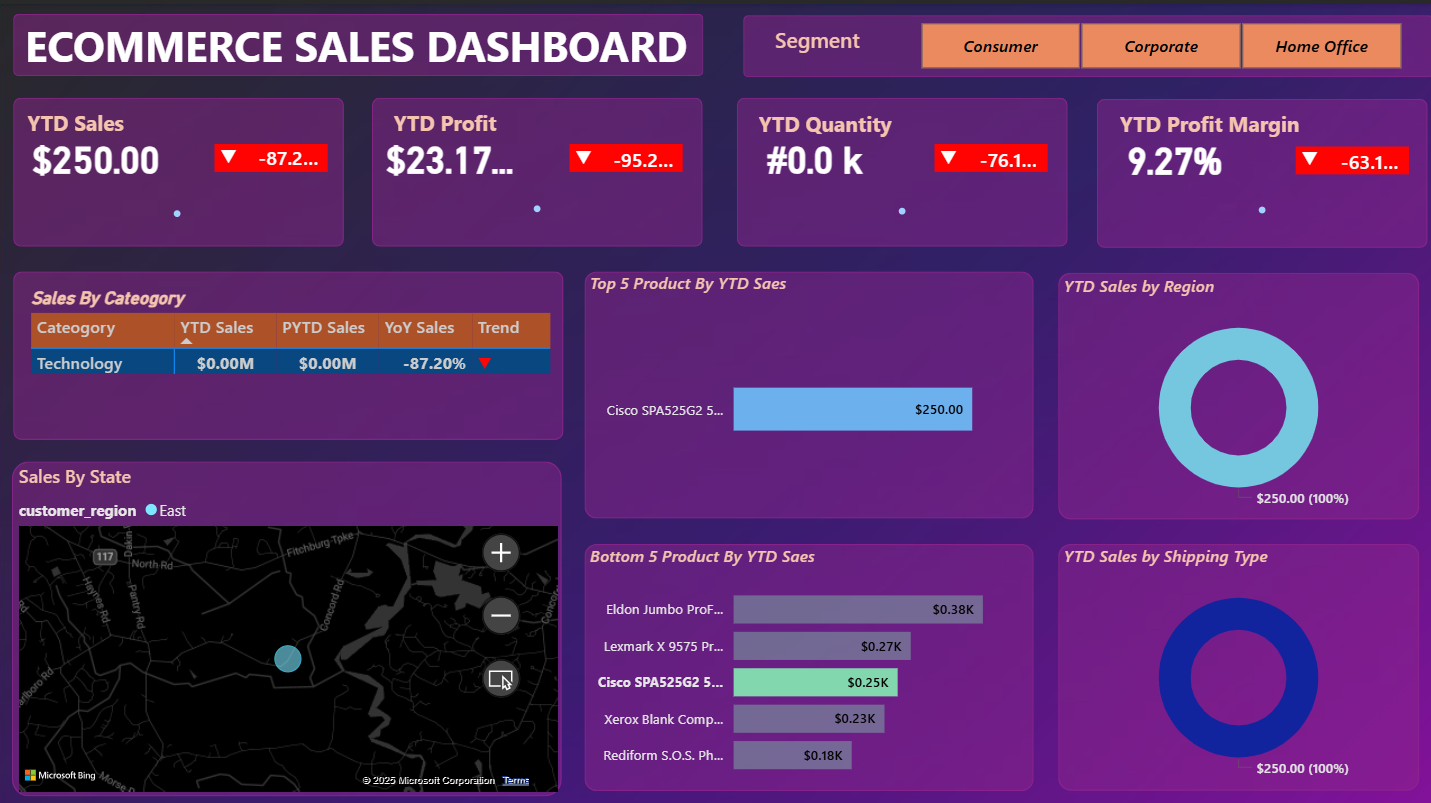

Layout of this report page (visuals, bound fields, positions):
{"tool":"powerbi","page":{"name":"Page 1","canvas":[1280,720],"ordinal":0},"visuals":[{"type":"shape","box":[14.7,8.6,614.7,55.2],"z":0},{"type":"textbox","box":[19.6,6.1,630.7,61.4],"z":1000},{"type":"shape","box":[14.7,83.4,294.5,132.5],"z":2000},{"type":"card","fields":{"Values":["ecommerce_data.YTD Sales"]},"box":[18.4,106.7,138.7,58.9],"z":3000},{"type":"areaChart","fields":{"Category":["Calendar.Month"],"Y":["Sum(ecommerce_data.sales_per_order)"]},"box":[13.5,149.7,294.5,67.5],"z":4000},{"type":"shape","box":[193.9,125.2,100.6,24.5],"z":5000},{"type":"card","fields":{"Values":["ecommerce_data.YoY Sales"]},"box":[224.5,125.2,69.9,28.2],"z":6000},{"type":"card","fields":{"Values":["ecommerce_data.Sales Icon"]},"box":[193.9,120.2,25.8,33.1],"z":7000},{"type":"textbox","box":[22.1,88.3,110.4,35.6],"z":8000},{"type":"shape","box":[333.5,83.4,294.5,132.5],"z":9000},{"type":"card","fields":{"Values":["ecommerce_data.YTD Profit"]},"box":[333.5,106.7,138.7,58.9],"z":10000},{"type":"areaChart","fields":{"Category":["Calendar.Month"],"Y":["Sum(ecommerce_data.profit_per_order)"]},"box":[333.5,147.2,294.5,67.5],"z":11000},{"type":"shape","box":[510.2,125.2,100.6,24.5],"z":12000},{"type":"card","fields":{"Values":["ecommerce_data.YoY Profit"]},"box":[540.9,126.4,69.9,28.2],"z":13000},{"type":"card","fields":{"Values":["ecommerce_data.Profit Icon"]},"box":[510.2,121.5,25.8,33.1],"z":14000},{"type":"textbox","box":[348.2,88.3,110.4,35.6],"z":15000},{"type":"shape","box":[658.7,83.4,294.5,132.5],"z":16000},{"type":"card","fields":{"Values":["ecommerce_data.YTD Qty logo"]},"box":[658.7,106.7,138.7,58.9],"z":17000},{"type":"areaChart","fields":{"Category":["Calendar.Month"],"Y":["Sum(ecommerce_data.order_quantity)"]},"box":[658.7,147.2,294.5,67.5],"z":18000},{"type":"shape","box":[835.4,125.2,100.6,24.5],"z":19000},{"type":"card","fields":{"Values":["ecommerce_data.YoY Qty"]},"box":[866,126.4,69.9,28.2],"z":20000},{"type":"card","fields":{"Values":["ecommerce_data.Quantity Icon"]},"box":[835.4,121.5,25.8,33.1],"z":21000},{"type":"textbox","box":[673.7,88.9,141.1,35.6],"z":22000},{"type":"shape","box":[980.1,84.7,294.5,132.5],"z":23000},{"type":"card","fields":{"Values":["ecommerce_data.YTD Profit Margin"]},"box":[980.1,108,138.7,58.9],"z":24000},{"type":"areaChart","fields":{"Category":["Calendar.Month"],"Y":["ecommerce_data.Profit Margin"]},"box":[980.1,148.5,294.5,67.5],"z":25000},{"type":"shape","box":[1156.8,126.4,100.6,24.5],"z":26000},{"type":"card","fields":{"Values":["ecommerce_data.YoY Profit Margin"]},"box":[1187.5,127.6,69.9,28.2],"z":27000},{"type":"card","fields":{"Values":["ecommerce_data.Profit Margin Icon"]},"box":[1156.8,122.7,25.8,33.1],"z":28000},{"type":"textbox","box":[995.1,89.6,192.6,35.6],"z":29000},{"type":"shape","box":[14.7,238,490,150],"z":30000},{"type":"pivotTable","title":"Sales By  Cateogory","fields":{"Rows":["ecommerce_data.category_name"],"Values":["ecommerce_data.YTD Sales","ecommerce_data.PYTD Sales","ecommerce_data.YoY Sales","ecommerce_data.Sales Icon"]},"box":[25.8,252.8,473.6,131.3],"z":31000},{"type":"shape","box":[13.5,407.4,489.6,298.2],"z":32000},{"type":"map","title":"Sales By State","fields":{"X":["us_state_long_lat_codes.longitude"],"Y":["us_state_long_lat_codes.latitude"],"Size":["ecommerce_data.YTD Sales"],"Series":["ecommerce_data.customer_region"]},"box":[14.7,408.6,489.6,298.2],"z":33000},{"type":"shape","box":[522.7,238,400,220],"z":34000},{"type":"shape","box":[522.7,481,400,220],"z":35000},{"type":"barChart","title":"Top 5 Product By YTD Saes","fields":{"Category":["ecommerce_data.product_name"],"Y":["ecommerce_data.YTD Sales"]},"box":[522.7,238,400,219.6],"z":36000},{"type":"barChart","title":"Bottom 5 Product By YTD Saes","fields":{"Category":["ecommerce_data.product_name"],"Y":["ecommerce_data.YTD Sales"]},"box":[522.7,481,400,219.6],"z":37000},{"type":"shape","box":[944.8,239.3,321.5,219.6],"z":37001},{"type":"shape","box":[944.8,481,321.5,219.6],"z":37002},{"type":"donutChart","title":"YTD Sales by Region","fields":{"Y":["ecommerce_data.YTD Sales"],"Category":["ecommerce_data.customer_region"]},"box":[944.8,240.5,321.5,218.4],"z":37003},{"type":"donutChart","title":"YTD Sales by Shipping Type","fields":{"Y":["ecommerce_data.YTD Sales"],"Category":["ecommerce_data.shipping_type"]},"box":[944.8,481,321.5,218.4],"z":37004},{"type":"shape","box":[665,9.8,614.7,55.2],"z":37005},{"type":"slicer","fields":{"Values":["ecommerce_data.customer_segment"]},"box":[797.6,9.8,477.3,54],"z":37006},{"type":"textbox","box":[688.3,14.7,114.1,45.4],"z":37007}]}

Visuals, with their boxes in screenshot pixels (x1, y1, x2, y2), scaled from the page's 1280x720 canvas onto the 1431x803 screenshot:
shape: x1=16, y1=10, x2=704, y2=71
textbox: x1=22, y1=7, x2=727, y2=75
shape: x1=16, y1=93, x2=346, y2=241
card - ecommerce_data.YTD Sales: x1=21, y1=119, x2=176, y2=185
areaChart - Calendar.Month x Sum(ecommerce_data.sales_per_order): x1=15, y1=167, x2=344, y2=242
shape: x1=217, y1=140, x2=329, y2=167
card - ecommerce_data.YoY Sales: x1=251, y1=140, x2=329, y2=171
card - ecommerce_data.Sales Icon: x1=217, y1=134, x2=246, y2=171
textbox: x1=25, y1=98, x2=148, y2=138
shape: x1=373, y1=93, x2=702, y2=241
card - ecommerce_data.YTD Profit: x1=373, y1=119, x2=528, y2=185
areaChart - Calendar.Month x Sum(ecommerce_data.profit_per_order): x1=373, y1=164, x2=702, y2=239
shape: x1=570, y1=140, x2=683, y2=167
card - ecommerce_data.YoY Profit: x1=605, y1=141, x2=683, y2=172
card - ecommerce_data.Profit Icon: x1=570, y1=136, x2=599, y2=172
textbox: x1=389, y1=98, x2=513, y2=138
shape: x1=736, y1=93, x2=1066, y2=241
card - ecommerce_data.YTD Qty logo: x1=736, y1=119, x2=891, y2=185
areaChart - Calendar.Month x Sum(ecommerce_data.order_quantity): x1=736, y1=164, x2=1066, y2=239
shape: x1=934, y1=140, x2=1046, y2=167
card - ecommerce_data.YoY Qty: x1=968, y1=141, x2=1046, y2=172
card - ecommerce_data.Quantity Icon: x1=934, y1=136, x2=963, y2=172
textbox: x1=753, y1=99, x2=911, y2=139
shape: x1=1096, y1=94, x2=1425, y2=242
card - ecommerce_data.YTD Profit Margin: x1=1096, y1=120, x2=1251, y2=186
areaChart - Calendar.Month x ecommerce_data.Profit Margin: x1=1096, y1=166, x2=1425, y2=241
shape: x1=1293, y1=141, x2=1406, y2=168
card - ecommerce_data.YoY Profit Margin: x1=1328, y1=142, x2=1406, y2=174
card - ecommerce_data.Profit Margin Icon: x1=1293, y1=137, x2=1322, y2=174
textbox: x1=1112, y1=100, x2=1328, y2=140
shape: x1=16, y1=265, x2=564, y2=433
"Sales By  Cateogory" pivotTable: x1=29, y1=282, x2=558, y2=428
shape: x1=15, y1=454, x2=562, y2=787
"Sales By State" map: x1=16, y1=456, x2=564, y2=788
shape: x1=584, y1=265, x2=1032, y2=511
shape: x1=584, y1=536, x2=1032, y2=782
"Top 5 Product By YTD Saes" barChart: x1=584, y1=265, x2=1032, y2=510
"Bottom 5 Product By YTD Saes" barChart: x1=584, y1=536, x2=1032, y2=781
shape: x1=1056, y1=267, x2=1416, y2=512
shape: x1=1056, y1=536, x2=1416, y2=781
"YTD Sales by Region" donutChart: x1=1056, y1=268, x2=1416, y2=512
"YTD Sales by Shipping Type" donutChart: x1=1056, y1=536, x2=1416, y2=780
shape: x1=743, y1=11, x2=1430, y2=72
slicer - ecommerce_data.customer_segment: x1=892, y1=11, x2=1425, y2=71
textbox: x1=769, y1=16, x2=897, y2=67
